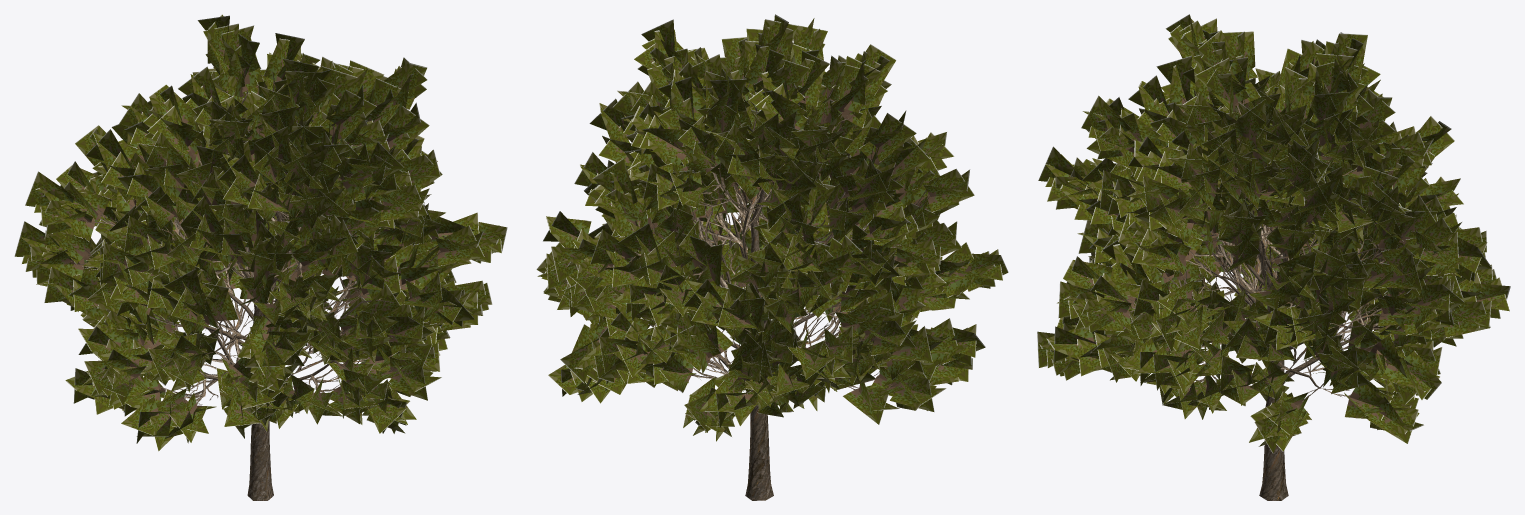
The picture shows the model from 3 angles, left to right: view 1: azimuth 30°, elevation 25°; view 2: azimuth 150°, elevation 25°; view 3: azimuth 270°, elevation 25°; orthographic projection.
Visible parts, largest first — view 1: Leaf_6_3, Bark_9_2; view 2: Leaf_6_3, Bark_9_2; view 3: Leaf_6_3, Bark_9_2.
Boxes of the visible parts, x1=… form: Leaf_6_3: x1=14, y1=14, x2=507, y2=451; Bark_9_2: x1=202, y1=114, x2=393, y2=500; Leaf_6_3: x1=536, y1=14, x2=1008, y2=441; Bark_9_2: x1=698, y1=120, x2=840, y2=500; Leaf_6_3: x1=1037, y1=14, x2=1510, y2=453; Bark_9_2: x1=1195, y1=234, x2=1390, y2=500.
Bounding box in the file's own units: 67.69 × 75.6 × 69.94.
3 materials, 3 textured.
